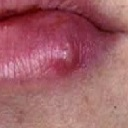Herpes Virus: (51, 38, 92, 72)
